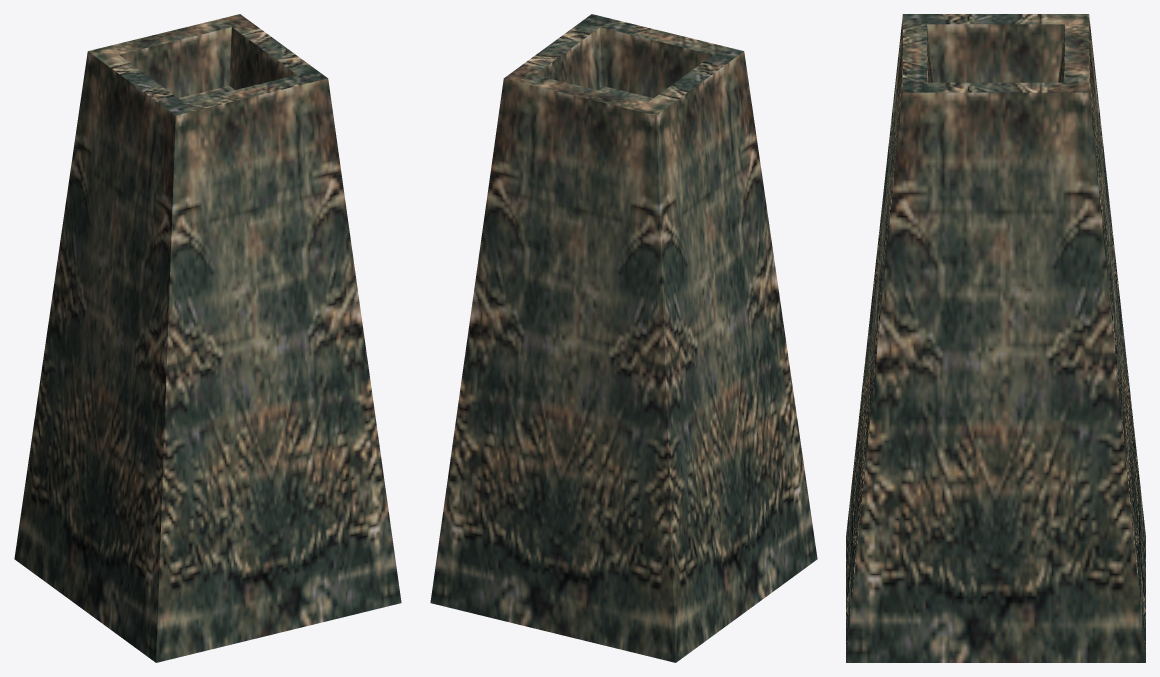
3 views of the same model, side by side, from view 1: azimuth 30°, elevation 25°; view 2: azimuth 150°, elevation 25°; view 3: azimuth 270°, elevation 25° (orthographic). The views are drawn at different scales.
Parts seen in each view (by area): view 1: SMDImport; view 2: SMDImport; view 3: SMDImport.
Boxes of the visible parts, x1,y1,x2,y2 form: SMDImport: [14, 14, 401, 662]; SMDImport: [430, 14, 817, 662]; SMDImport: [846, 14, 1145, 662].
Size of the model in its own units: 167 by 336 by 167.
